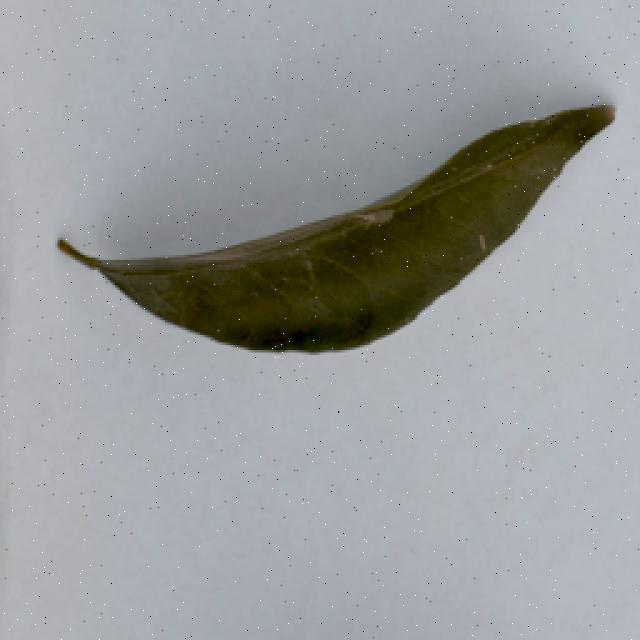healthy: (27, 81, 623, 401)
